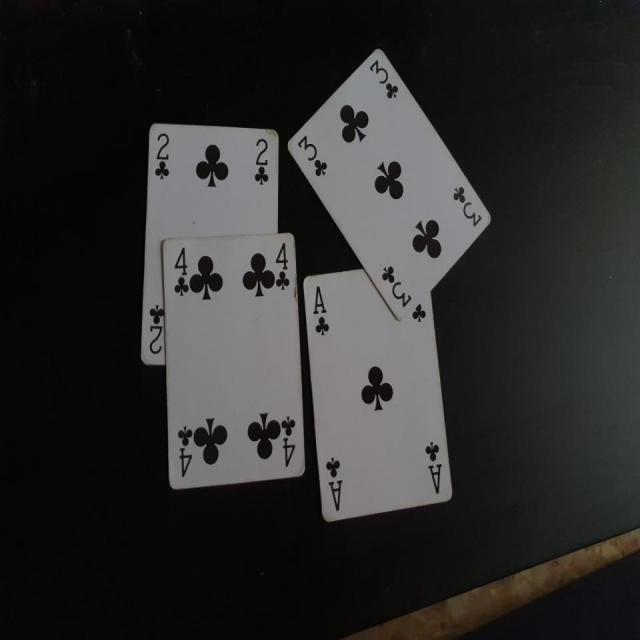2 Trefoils: (137, 120, 280, 367)
3 Trefoils: (286, 49, 492, 323)
4 Trefoils: (161, 228, 305, 490)
A Trefoils: (303, 269, 458, 522)
